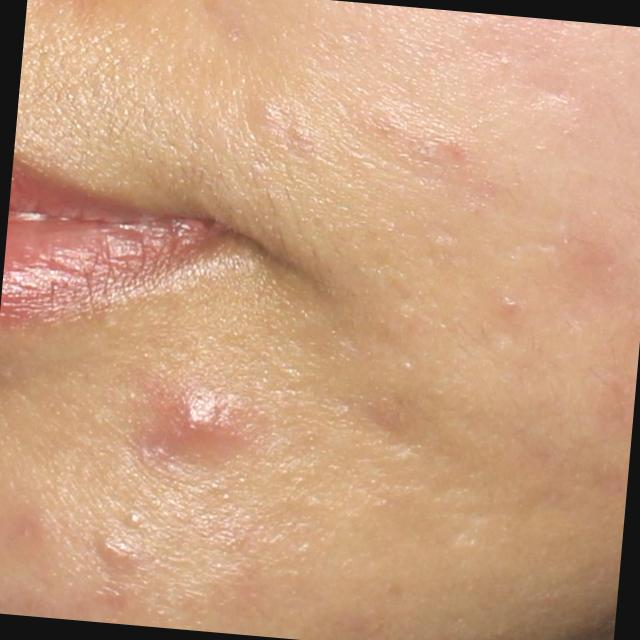nodule: (158, 392, 252, 458)
